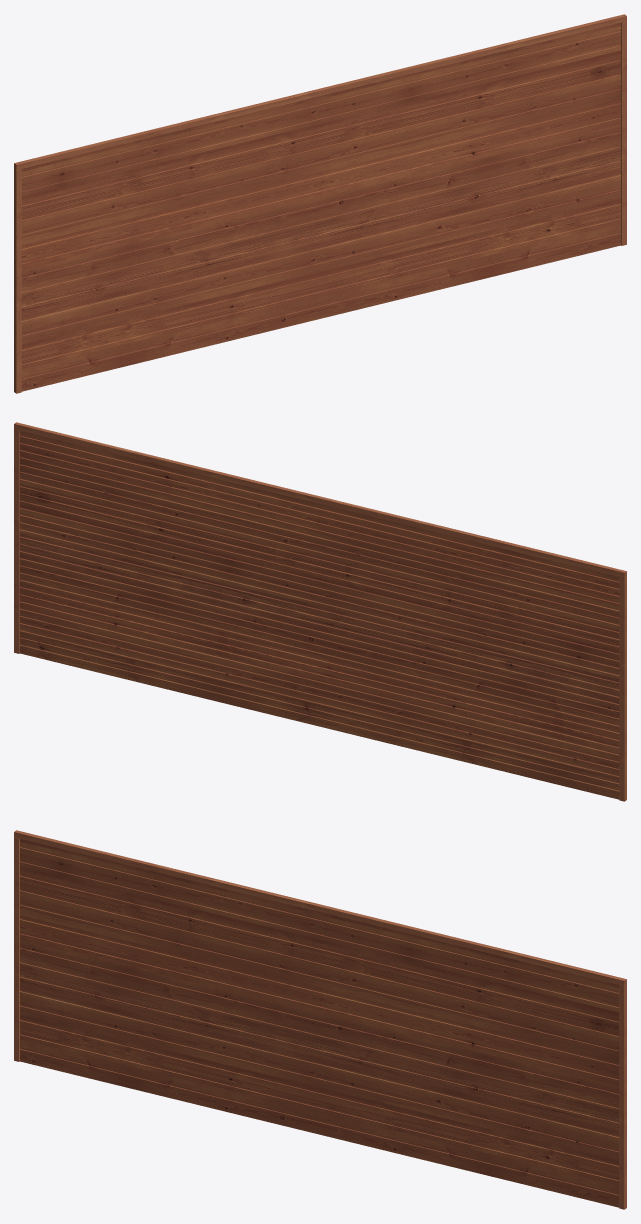
File: 22ftx7.875ft.obj
The picture shows the model from 3 angles, top to bottom: view 1: azimuth 30°, elevation 25°; view 2: azimuth 150°, elevation 25°; view 3: azimuth 330°, elevation 25°; orthographic projection.
Visible parts, largest first — view 1: wall_planks, trim_top, trim_left, trim_right; view 2: wall_planks, trim_top, trim_left, trim_right; view 3: wall_planks, trim_top, trim_right, trim_left.
Part boxes in pixels (left/top/right/bottom): wall_planks: left=21, top=23, right=620, bottom=391; trim_top: left=14, top=14, right=626, bottom=170; trim_left: left=14, top=169, right=21, bottom=393; trim_right: left=620, top=21, right=626, bottom=245; wall_planks: left=20, top=431, right=619, bottom=799; trim_top: left=14, top=422, right=626, bottom=578; trim_left: left=619, top=577, right=626, bottom=801; trim_right: left=14, top=429, right=19, bottom=653; wall_planks: left=20, top=839, right=619, bottom=1207; trim_top: left=14, top=830, right=626, bottom=986; trim_right: left=619, top=985, right=626, bottom=1209; trim_left: left=14, top=837, right=20, bottom=1061.
Size of the model in its own units: 264 by 94.5 by 1.82.
